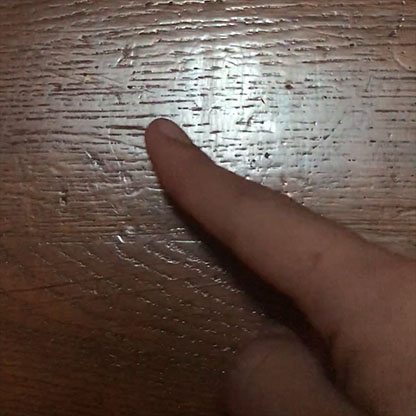fingertip: (141, 105, 201, 170)
